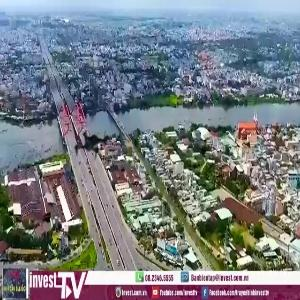drone: (64, 110, 123, 169)
